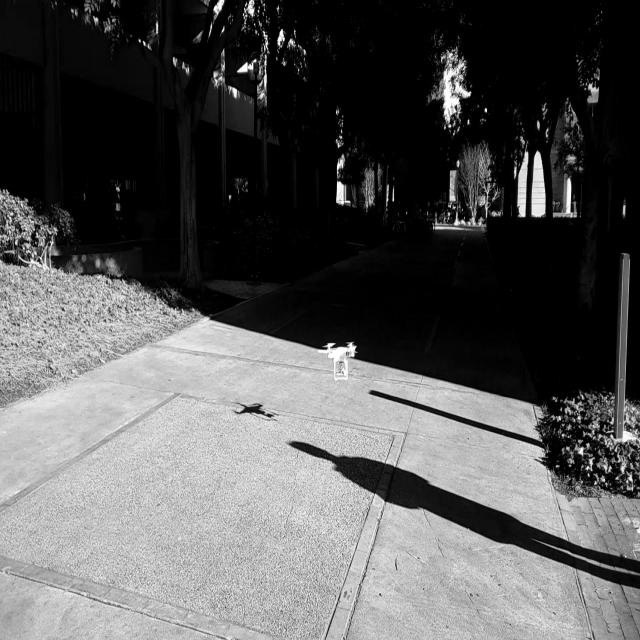drone: (324, 342, 356, 389)
